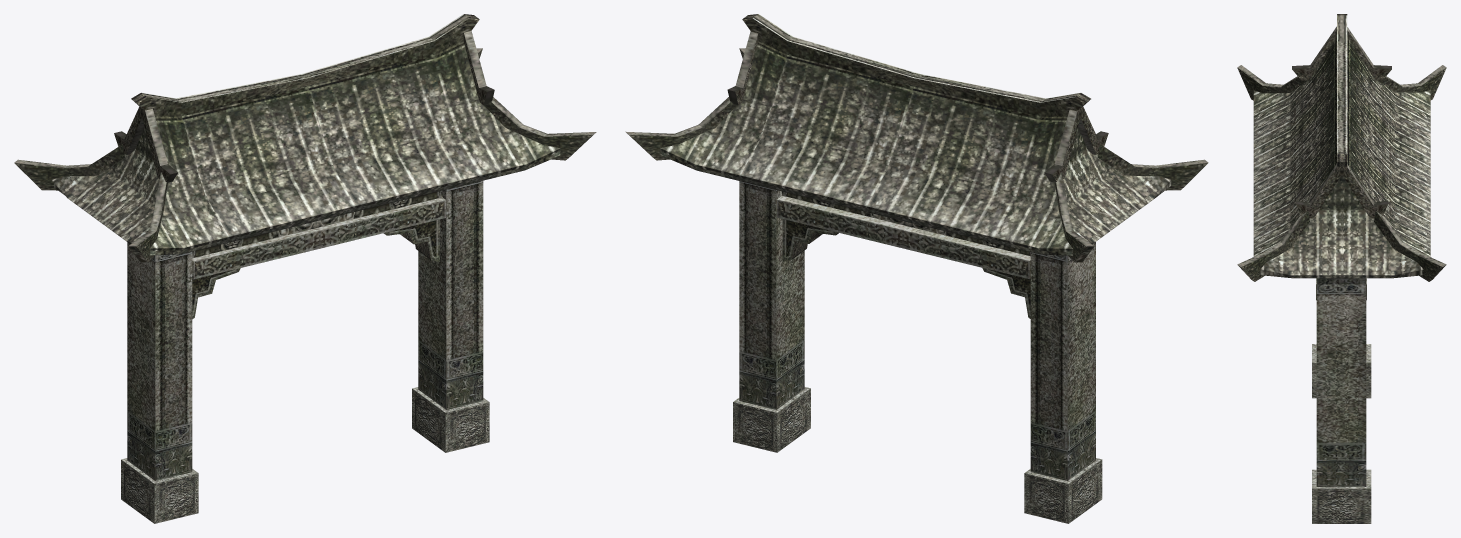
Rendered from general_obj_stonedoor.fbx.
3 renders of one model, left to right at view 1: azimuth 30°, elevation 25°; view 2: azimuth 150°, elevation 25°; view 3: azimuth 270°, elevation 25°, orthographic. The views are drawn at different scales.
Parts seen in each view (by area): view 1: Object05; view 2: Object05; view 3: Object05.
Part boxes in pixels (bbox=[...]): Object05: bbox=[14, 14, 596, 523]; Object05: bbox=[625, 14, 1208, 523]; Object05: bbox=[1237, 14, 1446, 523].
Bounding box in the file's own units: 11.16 × 9.44 × 4.89.
